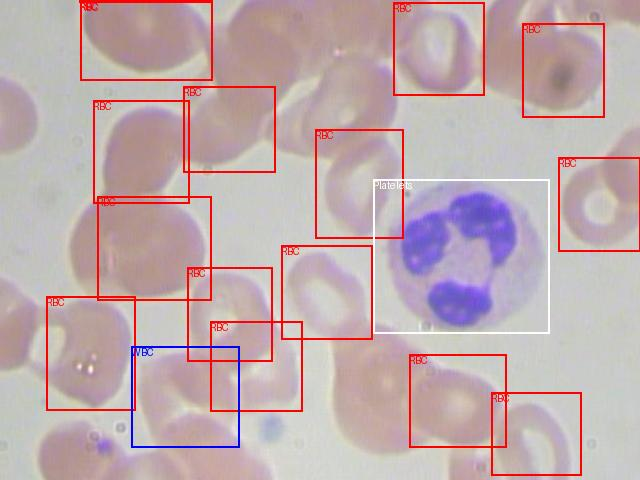Platelets: (373, 179, 549, 333)
RBC: (97, 196, 211, 300), (80, 1, 212, 80), (46, 296, 135, 410), (93, 100, 189, 203), (315, 129, 403, 238), (409, 354, 506, 447), (281, 245, 372, 339), (393, 2, 484, 95), (210, 321, 302, 411), (187, 267, 272, 361), (183, 86, 275, 172), (558, 157, 640, 251), (522, 23, 604, 117), (491, 392, 581, 475)
WBC: (131, 346, 239, 447)
